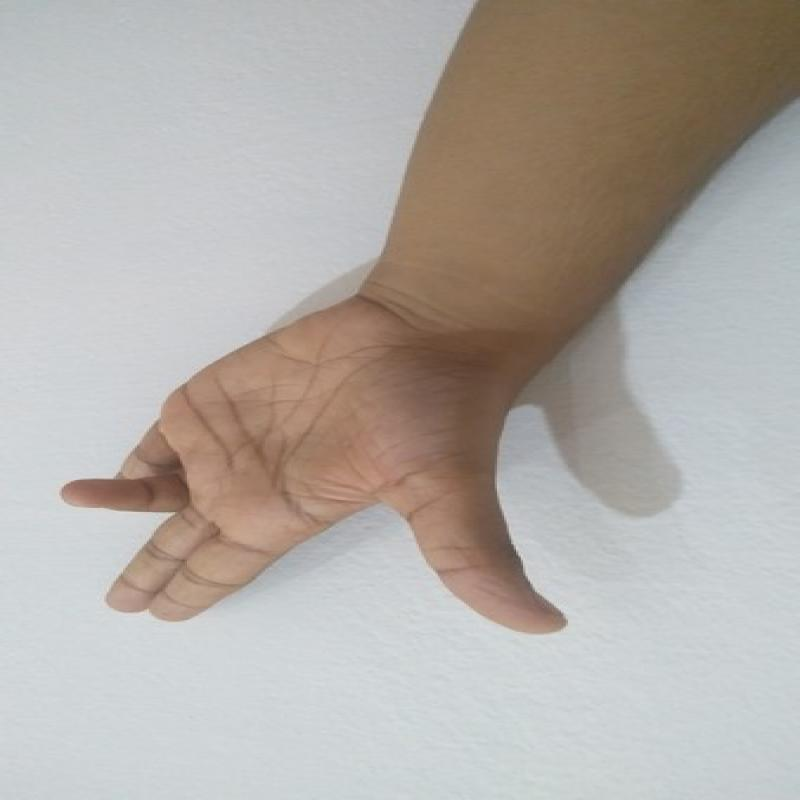Pathaaka: (43, 304, 583, 655)
